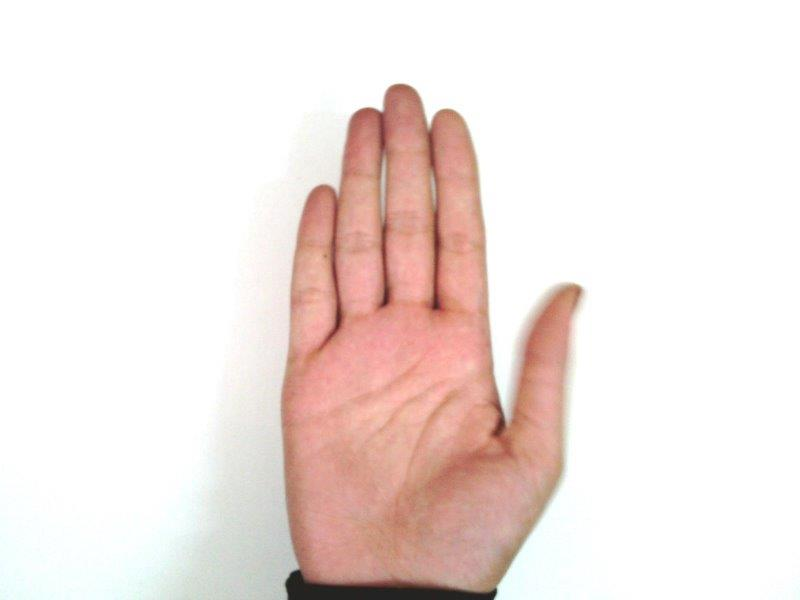hand: (280, 84, 585, 587)
